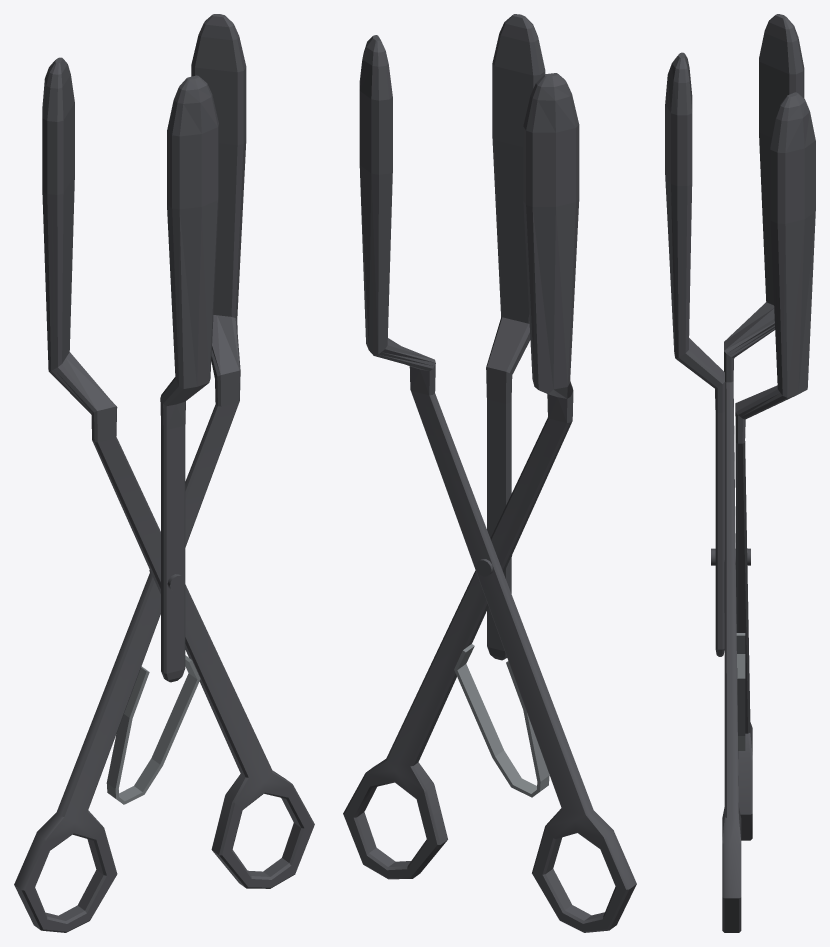
File: PRP_NURSE_TOOL_05.FBX
The picture shows the model from 3 angles, left to right: view 1: azimuth 30°, elevation 25°; view 2: azimuth 150°, elevation 25°; view 3: azimuth 270°, elevation 25°; orthographic projection. The views are drawn at different scales.
Visible parts, largest first — view 1: PRP_NURSE_TOOL_05; view 2: PRP_NURSE_TOOL_05; view 3: PRP_NURSE_TOOL_05.
Part boxes in pixels (<box>): PRP_NURSE_TOOL_05: <box>14,14,314,932</box>; PRP_NURSE_TOOL_05: <box>343,14,636,932</box>; PRP_NURSE_TOOL_05: <box>665,14,815,932</box>.
Size of the model in its own units: 7.94 by 22.46 by 3.71.
